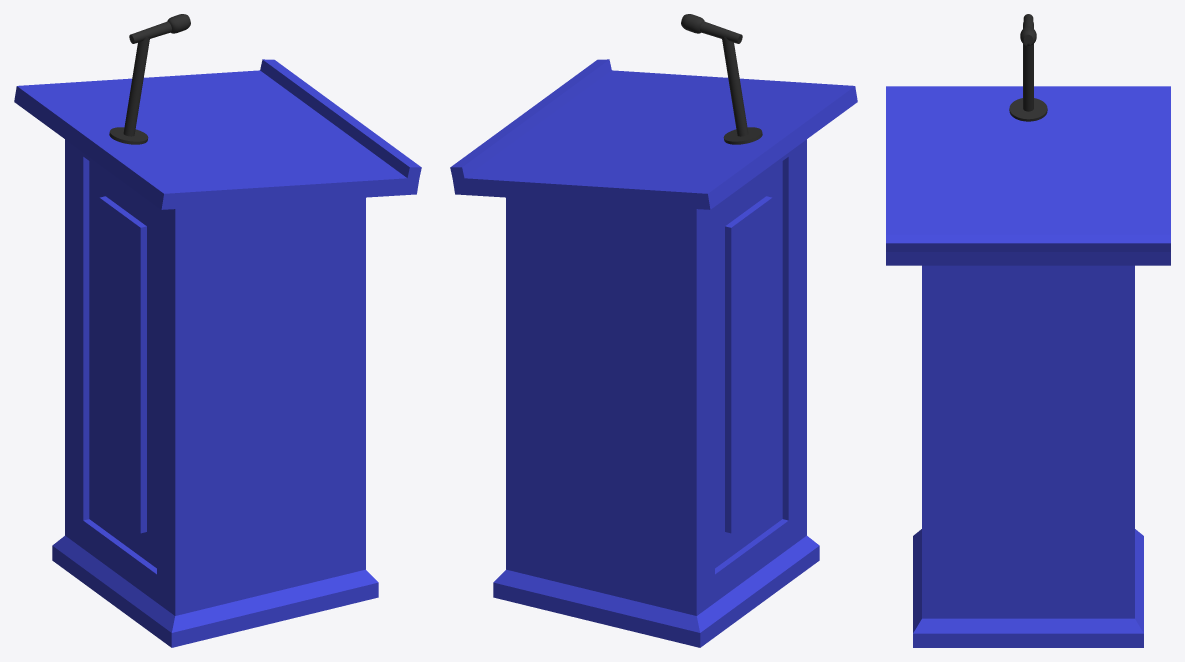
The model's file is podium.fbx.
3 views of the same model, side by side, from view 1: azimuth 30°, elevation 25°; view 2: azimuth 150°, elevation 25°; view 3: azimuth 270°, elevation 25° (orthographic). The views are drawn at different scales.
Parts seen in each view (by area): view 1: Cube, Cylinder; view 2: Cube, Cylinder; view 3: Cube, Cylinder.
Boxes of the visible parts, box(x1,y1,x2,y2) form: Cube: box(14, 59, 421, 647); Cylinder: box(109, 14, 190, 144); Cube: box(450, 59, 857, 647); Cylinder: box(681, 14, 762, 144); Cube: box(886, 86, 1170, 647); Cylinder: box(1009, 14, 1047, 121).
Size of the model in its own units: 109 by 228 by 107.
